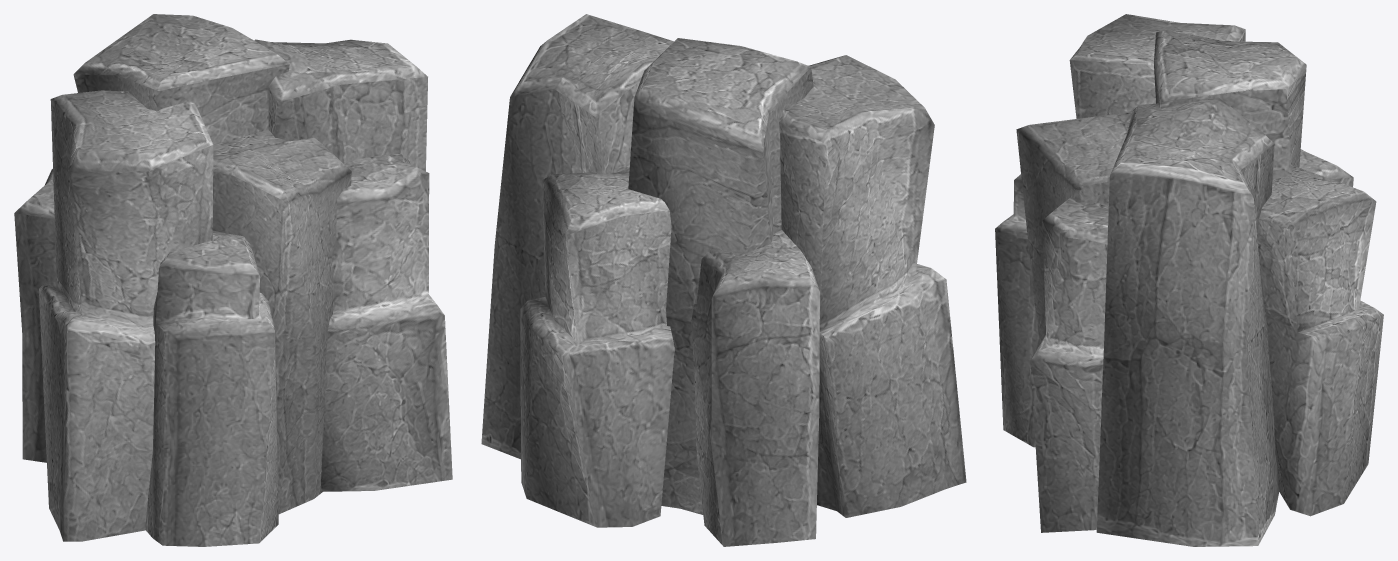
File: QuarryFace01.fbx
3 renders of one model, left to right at view 1: azimuth 30°, elevation 25°; view 2: azimuth 150°, elevation 25°; view 3: azimuth 270°, elevation 25°, orthographic. The views are drawn at different scales.
Parts seen in each view (by area): view 1: QuarryFace01_LOD0; view 2: QuarryFace01_LOD0; view 3: QuarryFace01_LOD0.
Part boxes in pixels (<box>): QuarryFace01_LOD0: <box>14,14,452,546</box>; QuarryFace01_LOD0: <box>481,14,966,546</box>; QuarryFace01_LOD0: <box>995,14,1383,546</box>.
Size of what is drawn, in the model's own units: 6.59 by 6.47 by 5.76.
